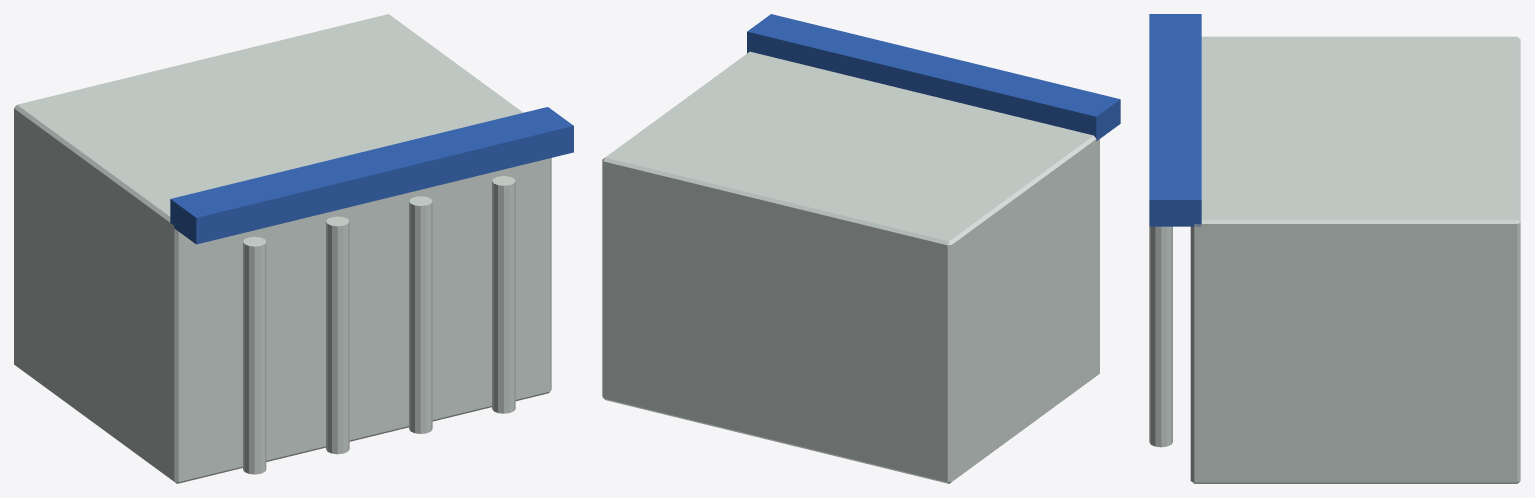
Rendered from bank-high.glb.
3 renders of one model, left to right at view 1: azimuth 30°, elevation 25°; view 2: azimuth 150°, elevation 25°; view 3: azimuth 270°, elevation 25°, orthographic. The views are drawn at different scales.
Visible parts, largest first — view 1: Bank_Body, Bank_Pediment, Column_3, Column_0, Column_1, Column_2; view 2: Bank_Body, Bank_Pediment; view 3: Bank_Body, Bank_Pediment, Column_3.
Part boxes in pixels (x1=…): Bank_Body: x1=14, y1=14, x2=551, y2=483; Bank_Pediment: x1=170, y1=107, x2=573, y2=244; Column_3: x1=492, y1=176, x2=515, y2=413; Column_0: x1=243, y1=236, x2=266, y2=474; Column_1: x1=326, y1=216, x2=349, y2=454; Column_2: x1=409, y1=196, x2=432, y2=433; Bank_Body: x1=602, y1=51, x2=1099, y2=483; Bank_Pediment: x1=747, y1=14, x2=1120, y2=141; Bank_Body: x1=1190, y1=36, x2=1520, y2=483; Bank_Pediment: x1=1149, y1=14, x2=1201, y2=226; Column_3: x1=1149, y1=226, x2=1172, y2=447.
Bounding box in the file's own units: 5.2 × 3.72 × 4.39.
